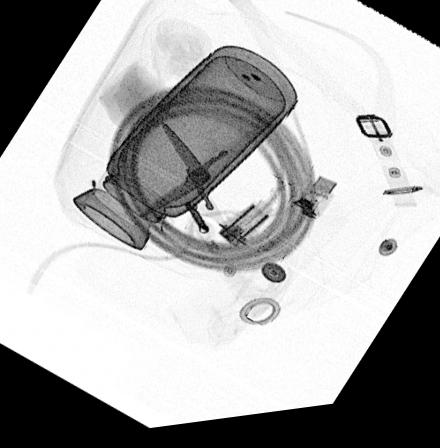Scissors: (134, 114, 259, 261)
